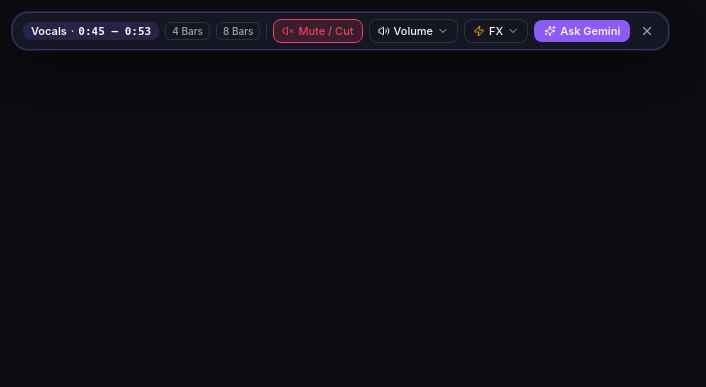
SegmentActionBar › renders target lane and time range and handles Mute/Cut, 4 Bars, FX, and Ask Gemini
Later steps or results of the test are not shown.
Check: the text "Vocals" is shown, box [31,24,67,38]
Check: the text "0:45 – 0:53" is shown, box [78,24,151,38]
Click the button "4 Bars".
click(188, 31)  # box [165,22,210,40]
Click the button "Mute / Cut".
click(318, 31)  # box [273,19,362,43]
Click the button "FX".
click(496, 31)  # box [464,19,528,43]
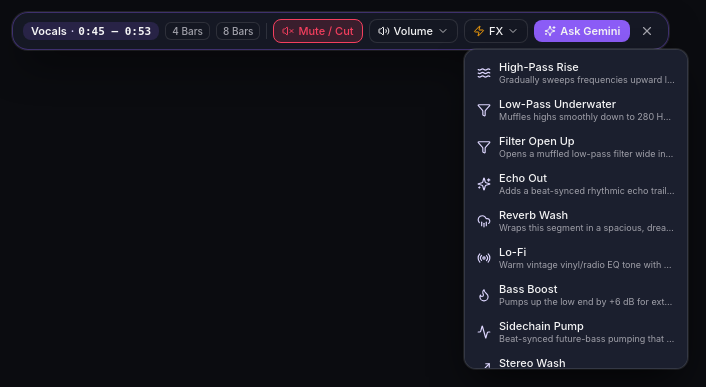
Check: the text "Low-Pass Underwater" is shown, box [499,97,616,111]
Check: the text "Filter Open Up" is shown, box [499,134,575,148]
Check: the text "Sidechain Pump" is shown, box [499,319,584,333]
